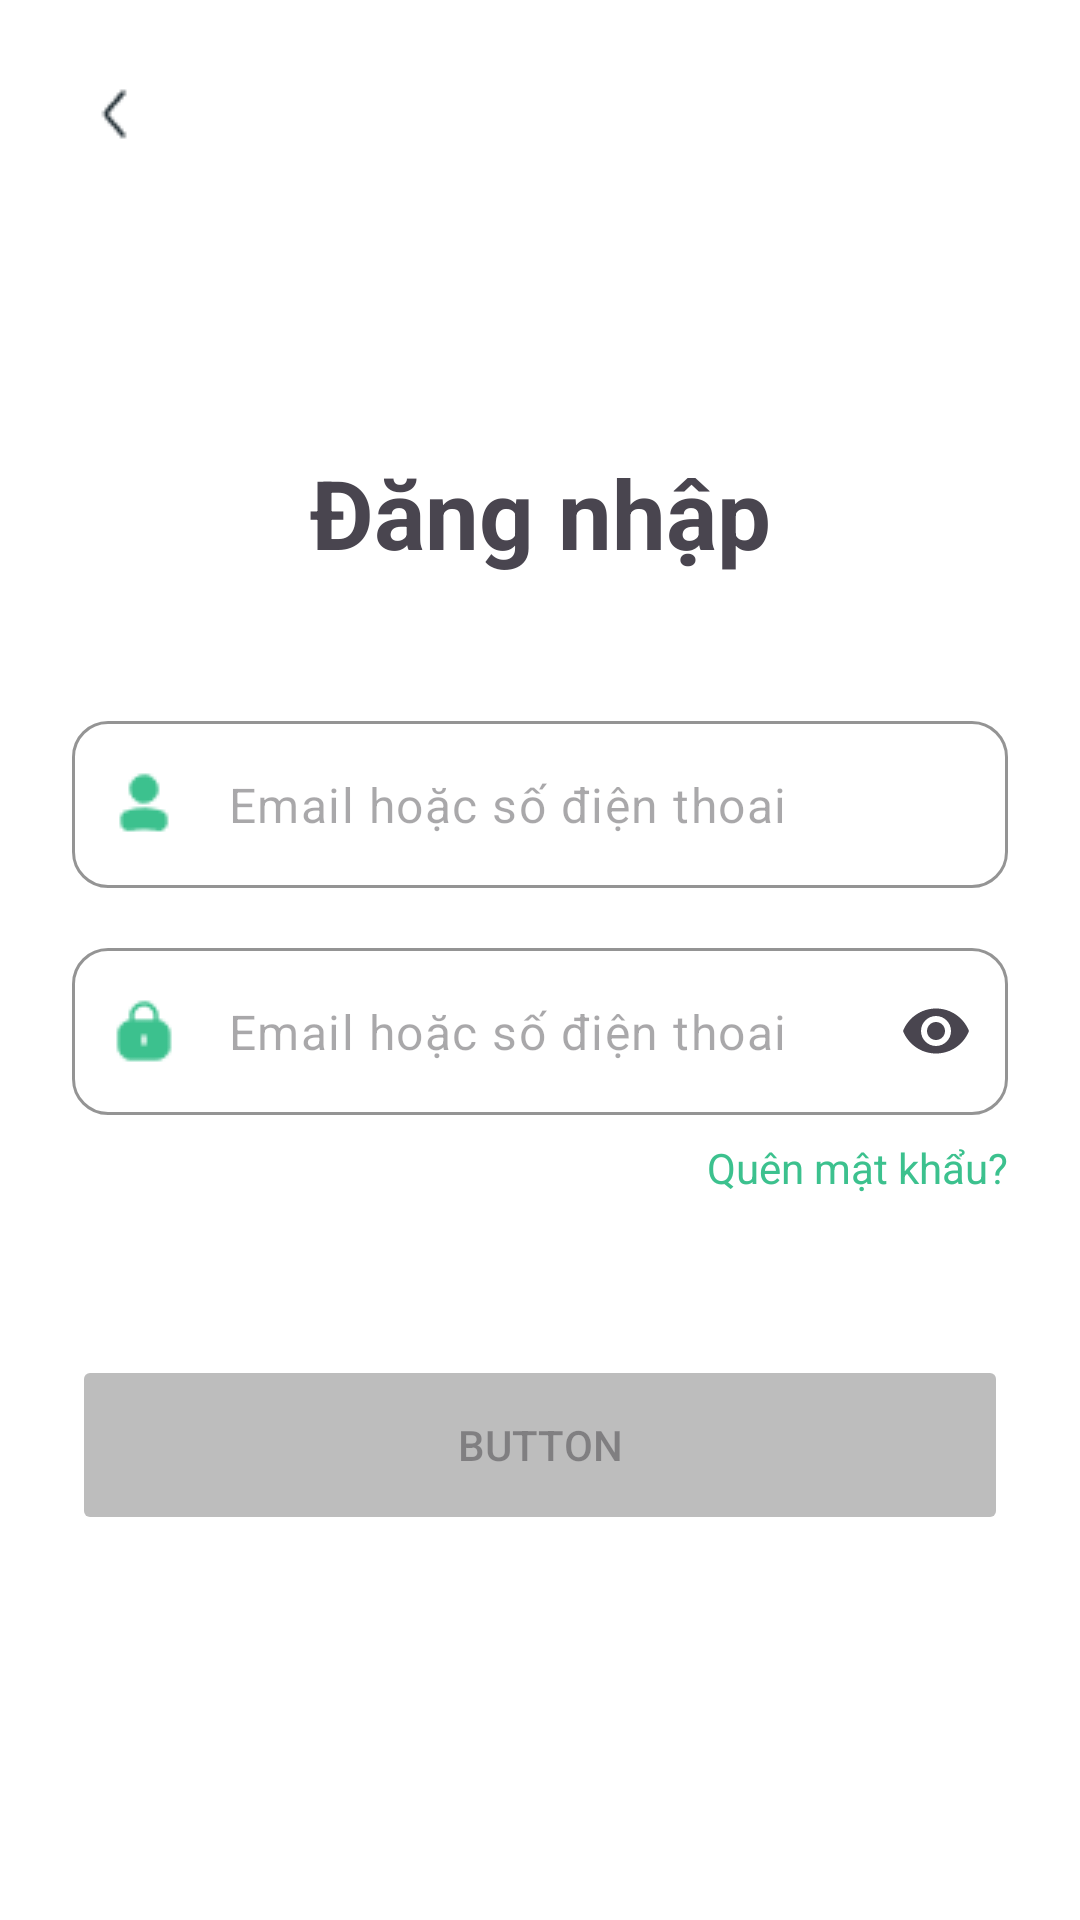

Screen size 1080w x 1920h. Icon name, then its center in pixels as [x,y]:
Get back to the previous screen: [114,114]
